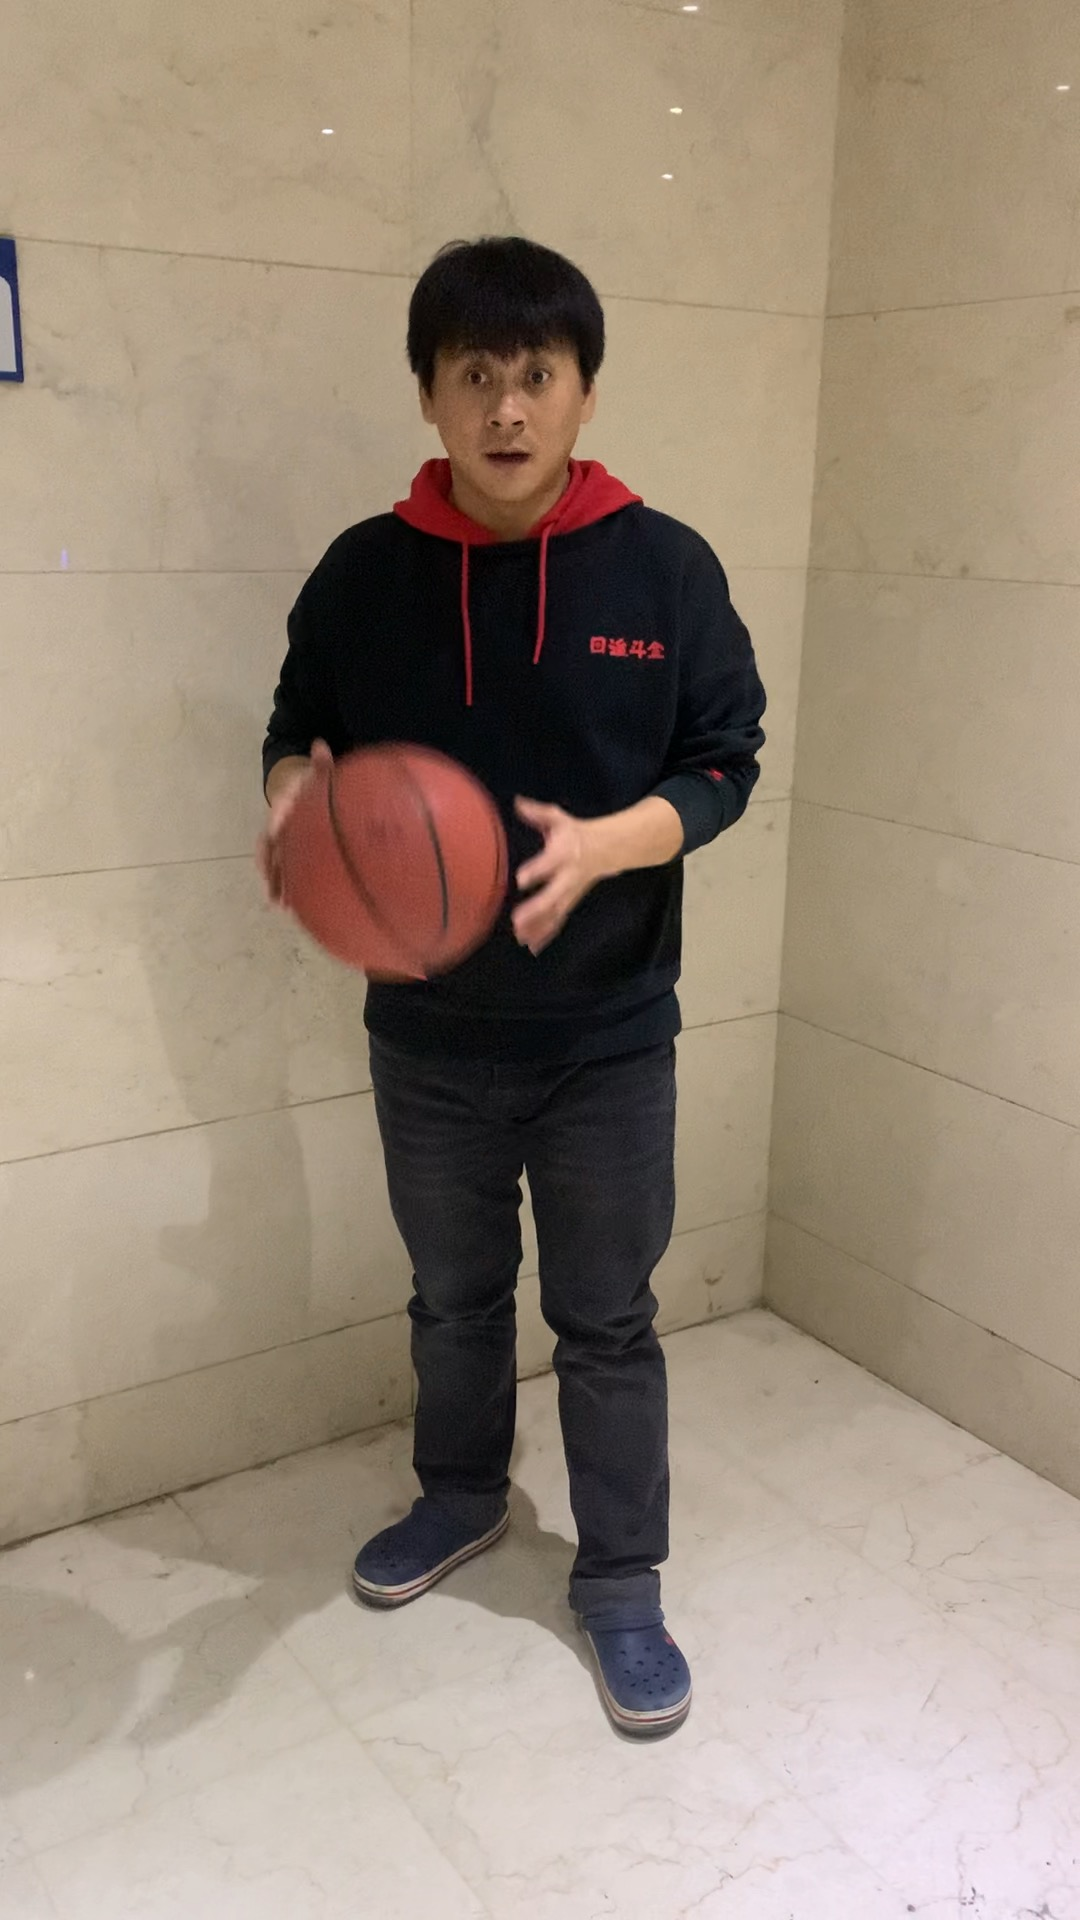ball: (280, 749, 505, 972)
